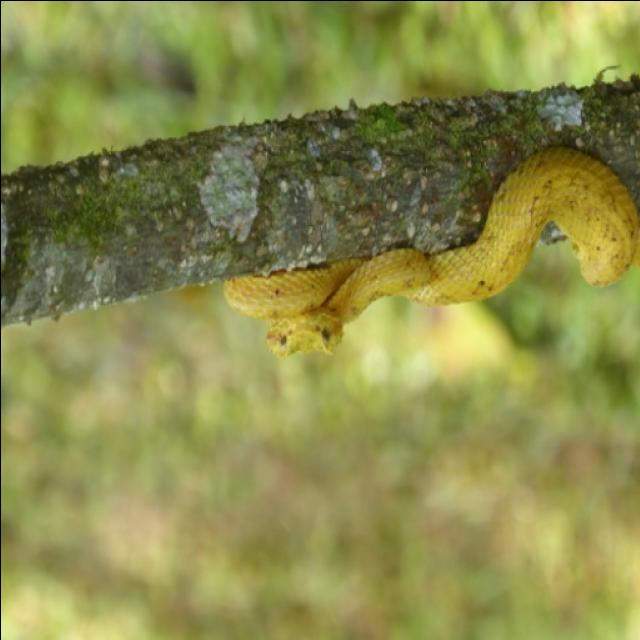snake: (204, 150, 640, 367)
